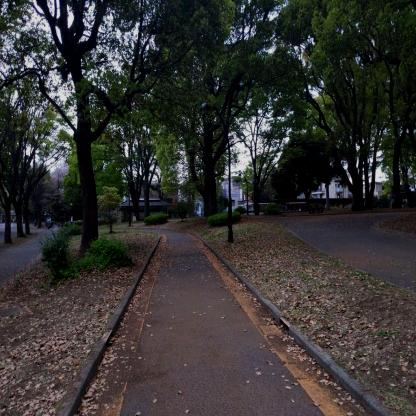Someiyoshino: (45, 156, 76, 201)
